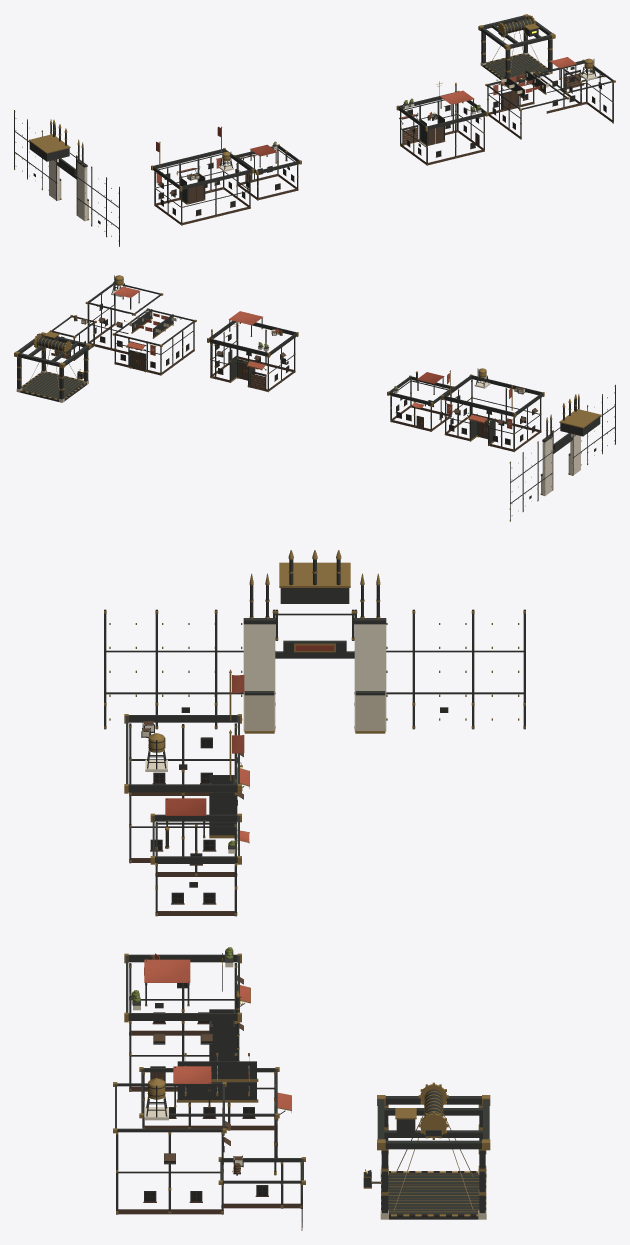
Rendered from lower_set.glb.
The picture shows the model from 3 angles, top to bottom: view 1: azimuth 30°, elevation 25°; view 2: azimuth 150°, elevation 25°; view 3: azimuth 270°, elevation 25°; orthographic projection. The views are drawn at different scales.
Parts seen in each view (by area): view 1: lower_set; view 2: lower_set; view 3: lower_set.
Part boxes in pixels (x1,y1,x2,y2): lower_set: (14, 14, 615, 246); lower_set: (14, 275, 615, 521); lower_set: (104, 550, 525, 1230).
Bounding box in the file's own units: 95.26 × 14.4 × 32.02.
